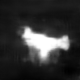plane: (17, 24, 72, 66)
